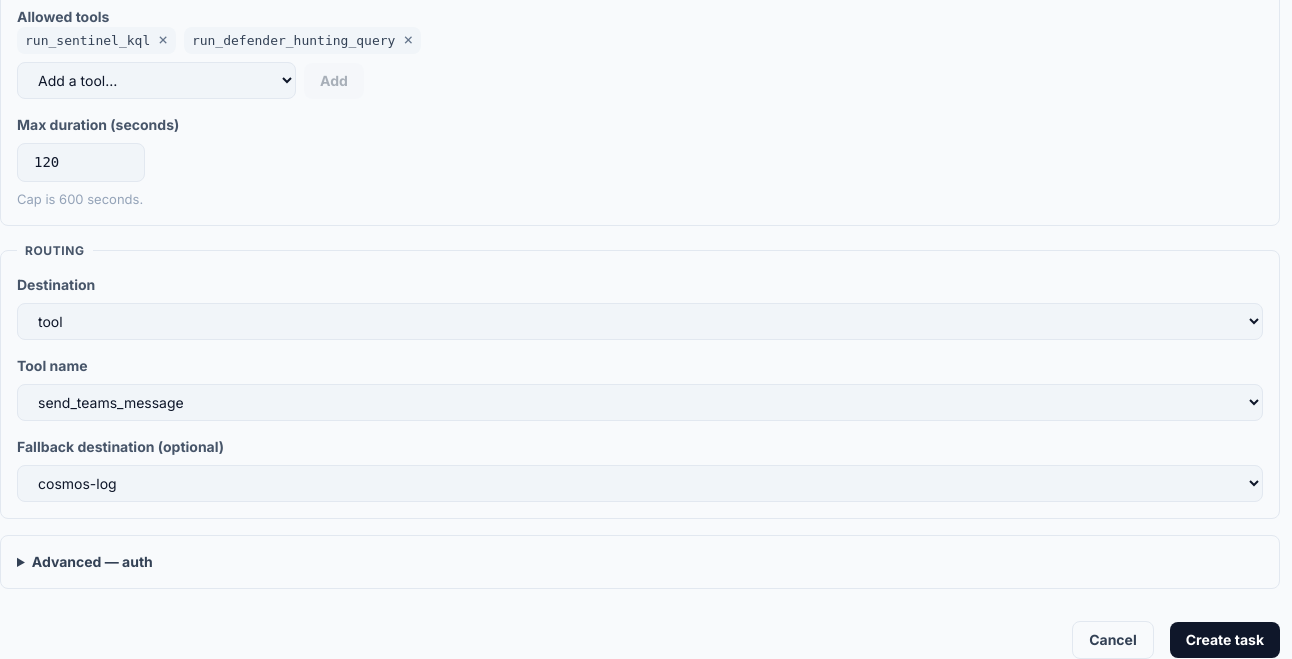
it: ScheduledTaskEditor — create mode › hides toolName when destination switches away from "tool"
(page scrolled)
Expected: the dropdown labelled "Tool name" is shown, [17,384,1263,421]
Select "cosmos-log" in the dropdown labelled "Destination". click: point(640, 321)
box: [17,303,1263,340]
(page scrolled)
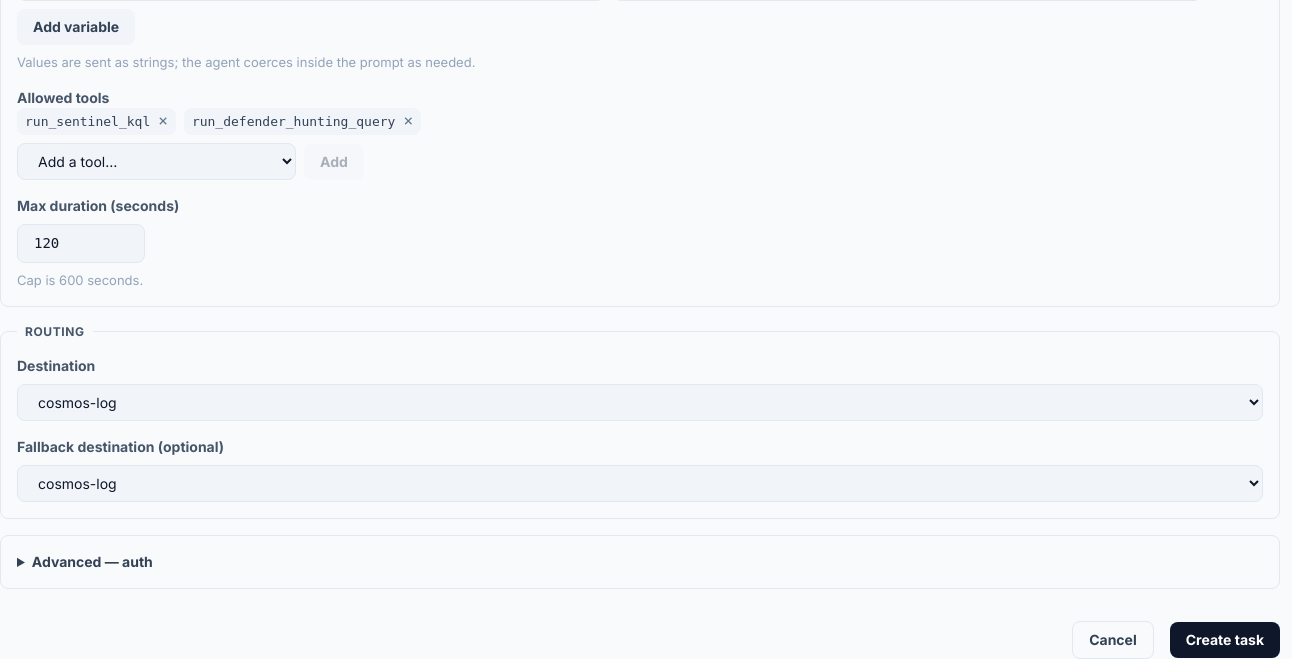
Expected: the label labelled "Tool name" is gone
